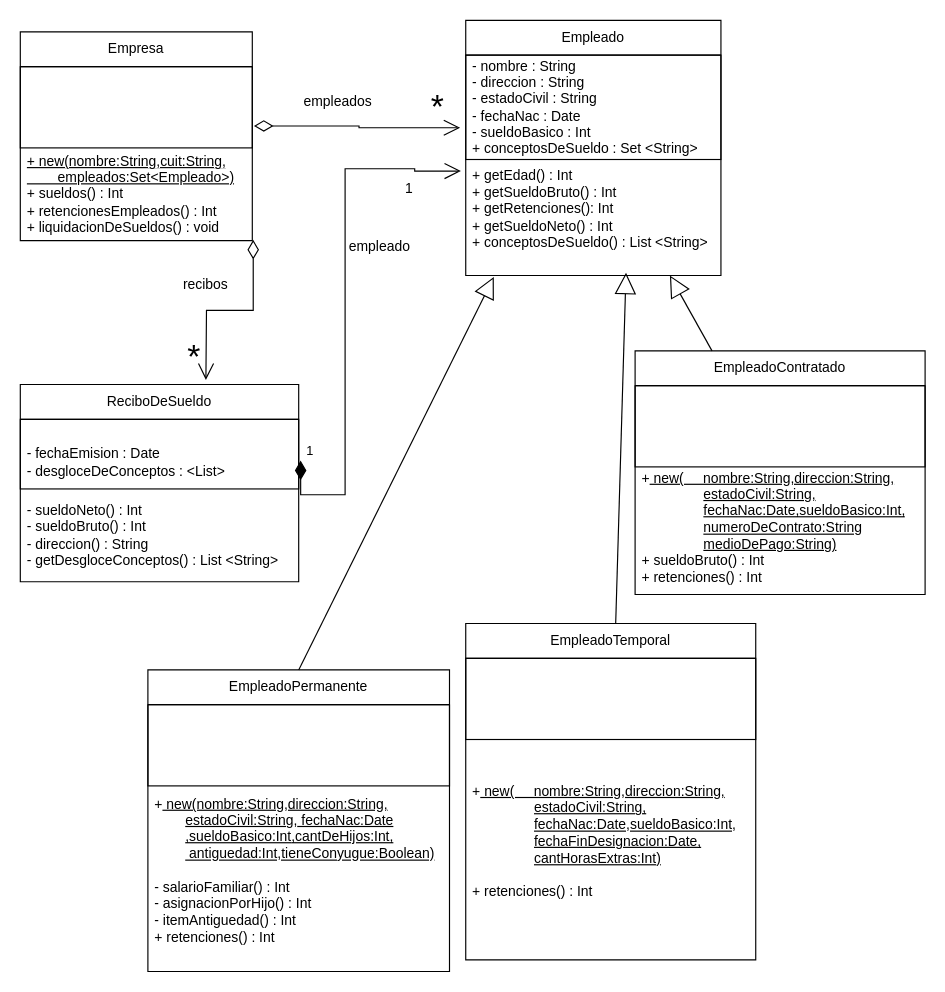
This 945x992 diagram has some shape labels left out. The shapes that lost their labels are listed below. From the top down, each one's centre as x and y in pixels, then its label:
At point (135, 107): "- nombre : String - cuit : String".
At point (779, 426): "- numeroContrato : String - medioDePago : String".
At point (610, 698): "- fechaFinDesignacion : Date - cantHorasExtras : Int".
At point (298, 745): "- cantDeHijos : Int - antiguedad : Int - tieneConyugue : Boolean".
